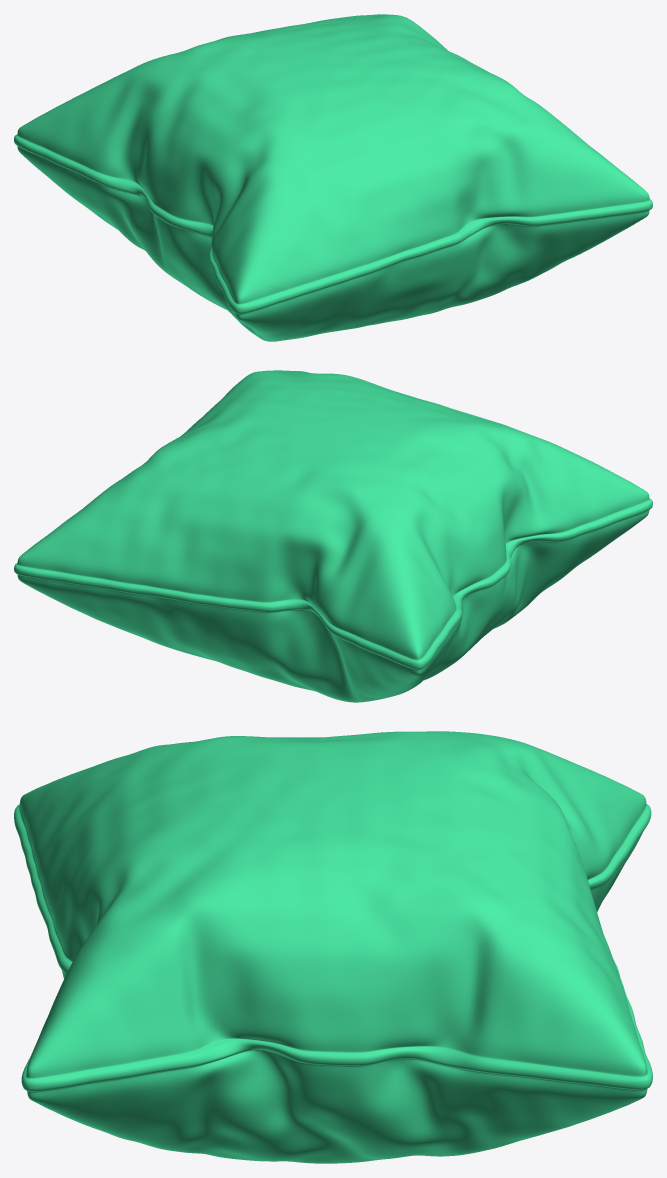
3 views of the same model, one above another, from view 1: azimuth 30°, elevation 25°; view 2: azimuth 150°, elevation 25°; view 3: azimuth 270°, elevation 25° (orthographic). The views are drawn at different scales.
Parts seen in each view (by area): view 1: Cube_0; view 2: Cube_0; view 3: Cube_0.
Boxes of the visible parts, bbox=[...] form: Cube_0: bbox=[14, 14, 652, 341]; Cube_0: bbox=[14, 370, 652, 702]; Cube_0: bbox=[14, 731, 652, 1163].
Size of the model in its own units: 1.93 by 1.02 by 1.84.
